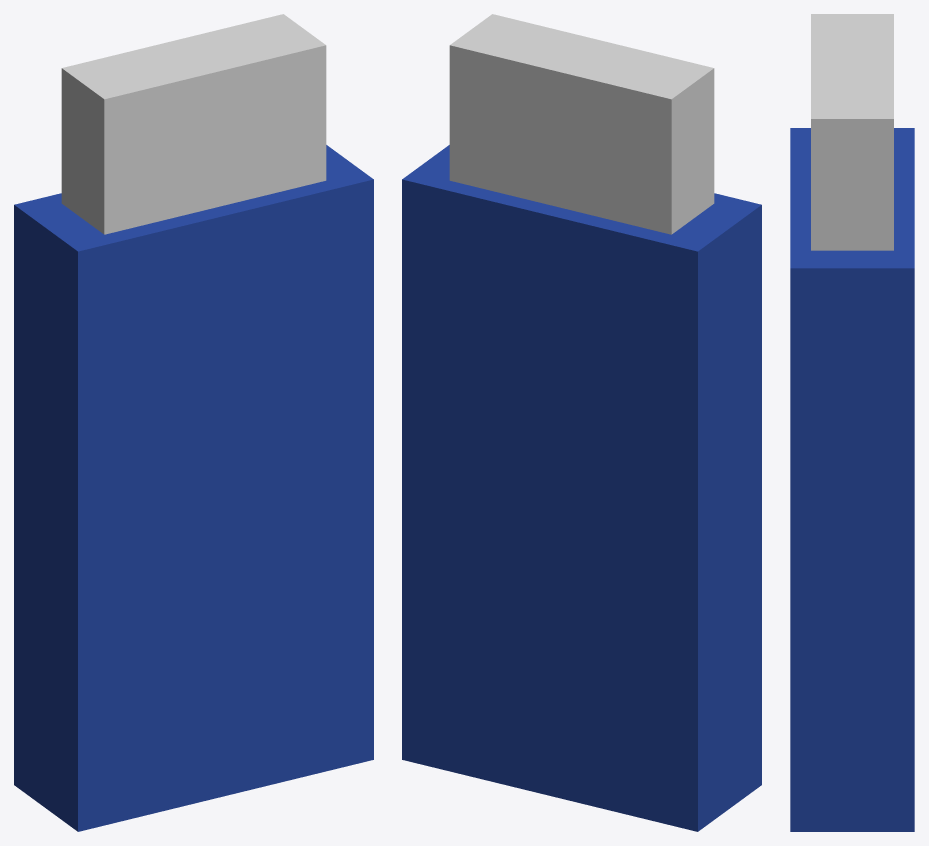
The model's file is usbstick.fbx.
The picture shows the model from 3 angles, left to right: view 1: azimuth 30°, elevation 25°; view 2: azimuth 150°, elevation 25°; view 3: azimuth 270°, elevation 25°; orthographic projection. The views are drawn at different scales.
Visible parts, largest first — view 1: Cube, Cube.001; view 2: Cube, Cube.001; view 3: Cube, Cube.001.
Boxes of the visible parts, <box> form: Cube: <box>14,145,373,831</box>; Cube.001: <box>61,14,326,234</box>; Cube: <box>402,145,761,831</box>; Cube.001: <box>449,14,714,234</box>; Cube: <box>790,128,914,831</box>; Cube.001: <box>811,14,893,250</box>.
Size of the model in its own units: 1.6 by 0.6 by 3.7.
